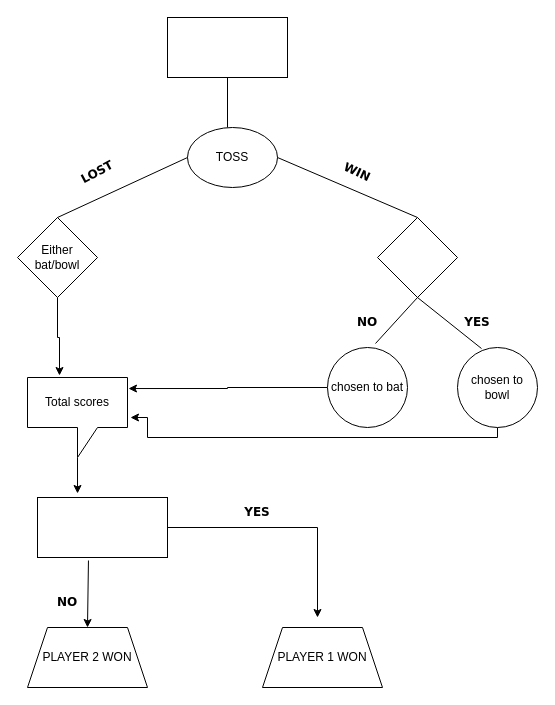
Some shapes in this 555 by 705 pixel diagram are drawn without their labels. The shapes that lost their labels are listed below. From the top down, each one's centre as x and y in pixels, then its label:
point (227, 47): Players
point (417, 257): OPT to Bat/Bowl
point (102, 527): IF Player1 scores> Player 2
